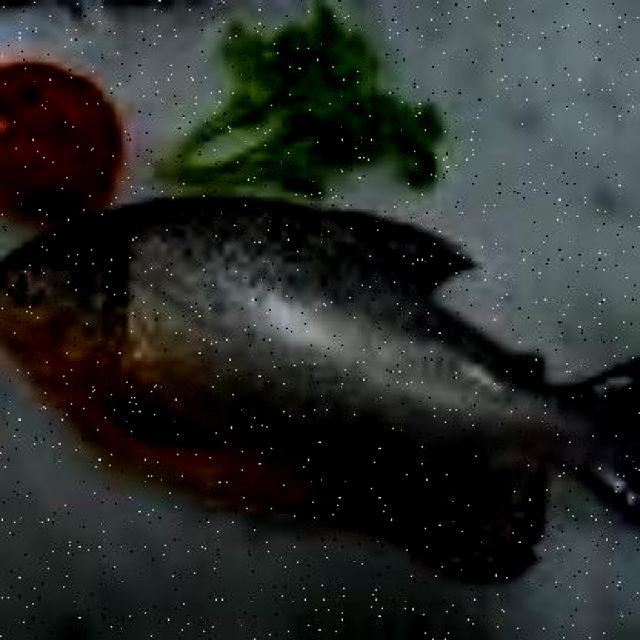ikan-pacu: (0, 196, 628, 550)
